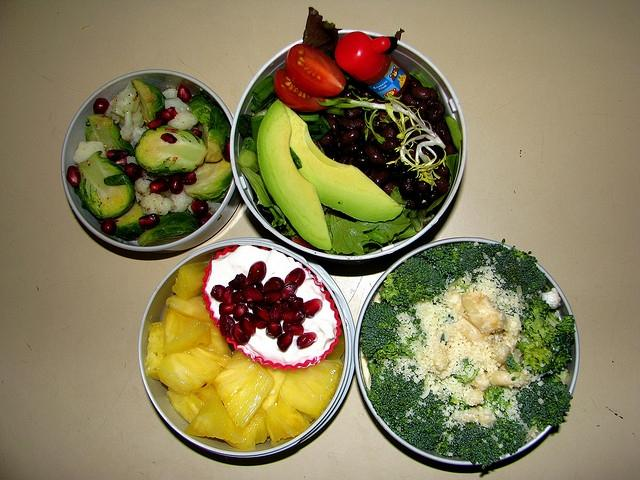avocado: (284, 104, 408, 221), (257, 100, 333, 250)
broccoli: (360, 301, 428, 375), (364, 364, 424, 432), (380, 256, 446, 308), (516, 373, 573, 431), (394, 391, 448, 452), (495, 246, 544, 292), (537, 320, 575, 356), (421, 244, 459, 280), (488, 418, 528, 450)
pineapple: (212, 353, 274, 431), (157, 343, 232, 396), (277, 360, 343, 420), (184, 391, 244, 444), (164, 308, 212, 354), (223, 407, 270, 451), (166, 384, 217, 423), (266, 401, 312, 444), (172, 260, 210, 301), (166, 293, 214, 324), (260, 366, 292, 412), (144, 322, 167, 380), (326, 327, 345, 360)
tomato: (285, 44, 346, 98), (274, 68, 331, 112)
